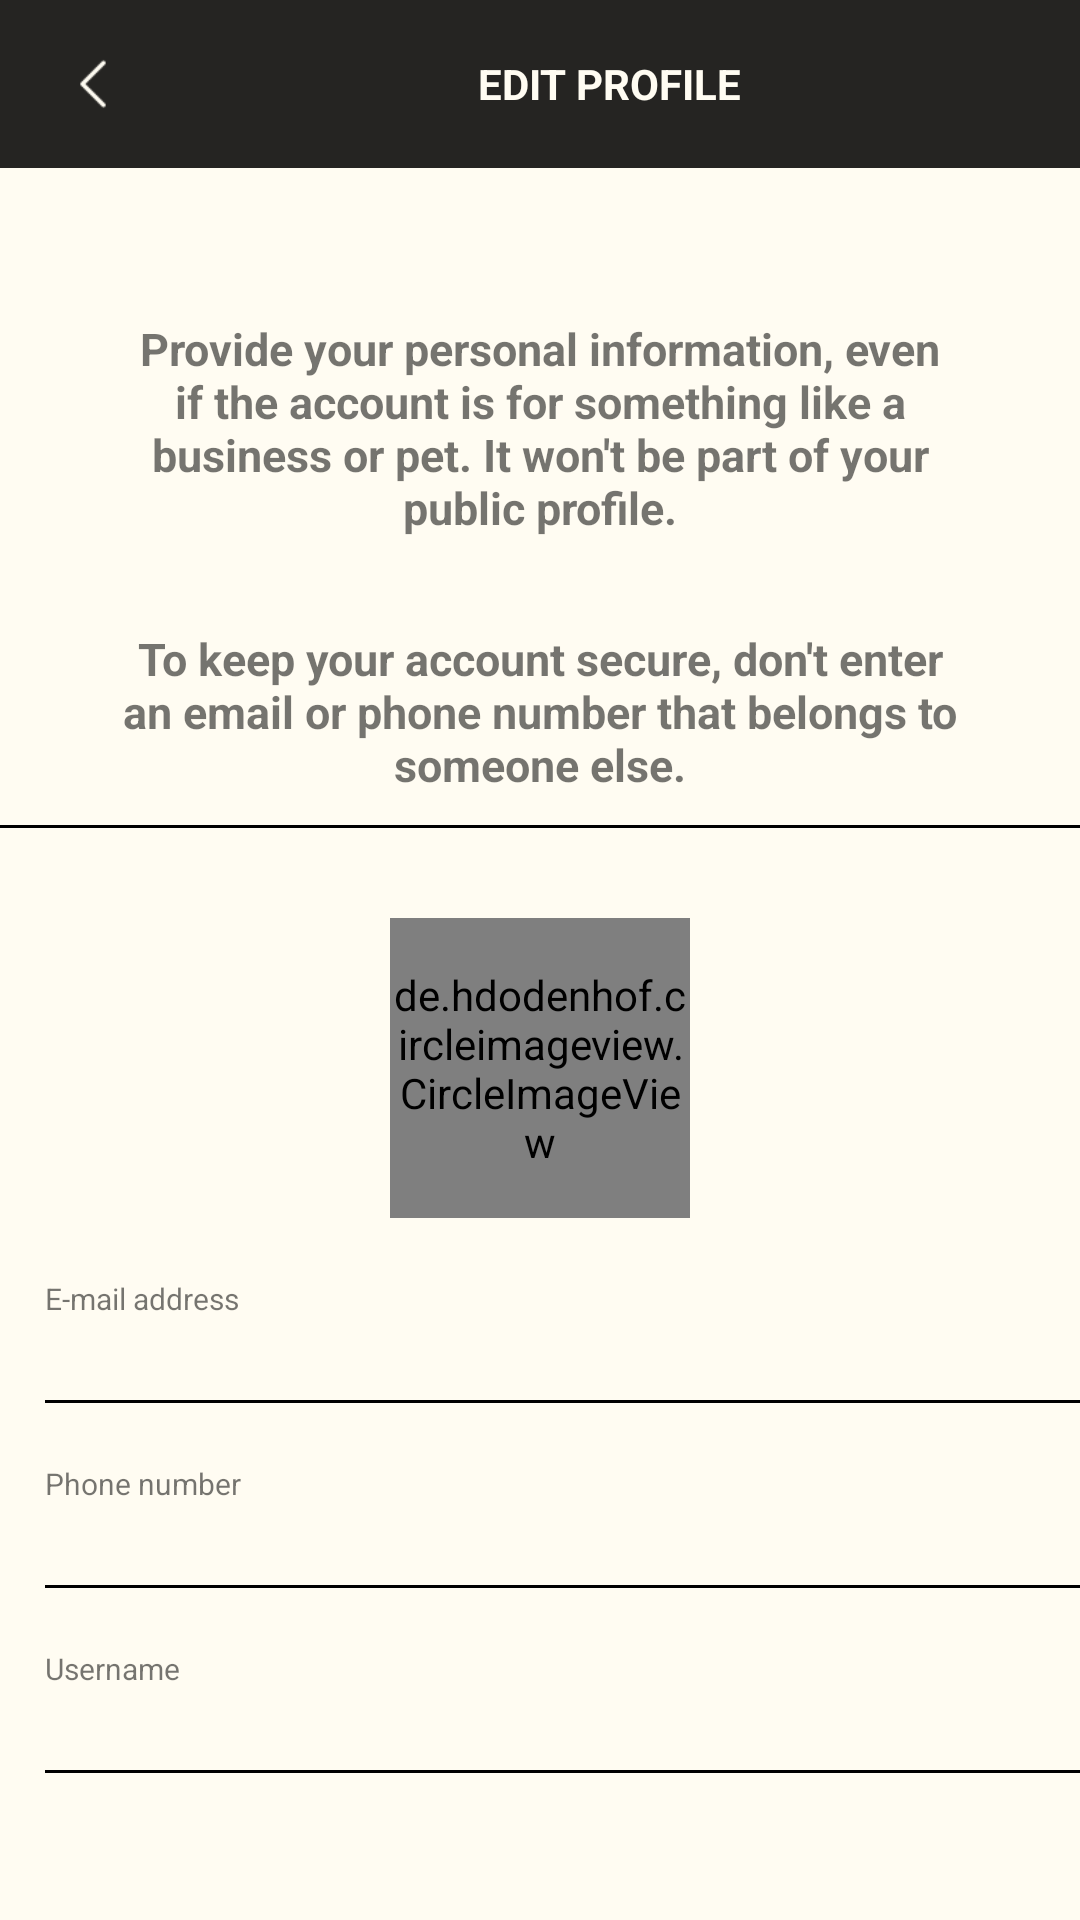

Icon click points for this 1080×1920 phone screenshot, format point (x, y):
back: point (93, 84)
